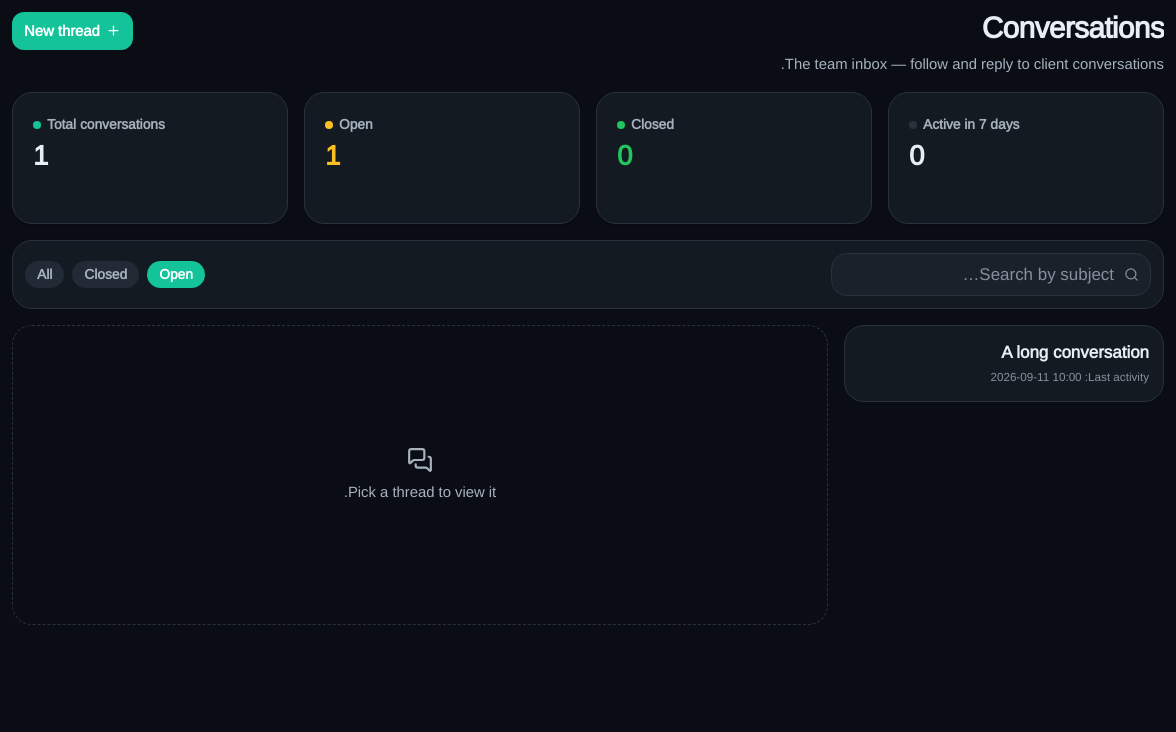
Test: a windowed conversation › opens the older window, and offers the way back
What coordinates should you click on to do the following:
click the text "A long conversation"
I would click on:
 (1075, 353)
Its box is x1=1001 y1=340 x2=1149 y2=366.
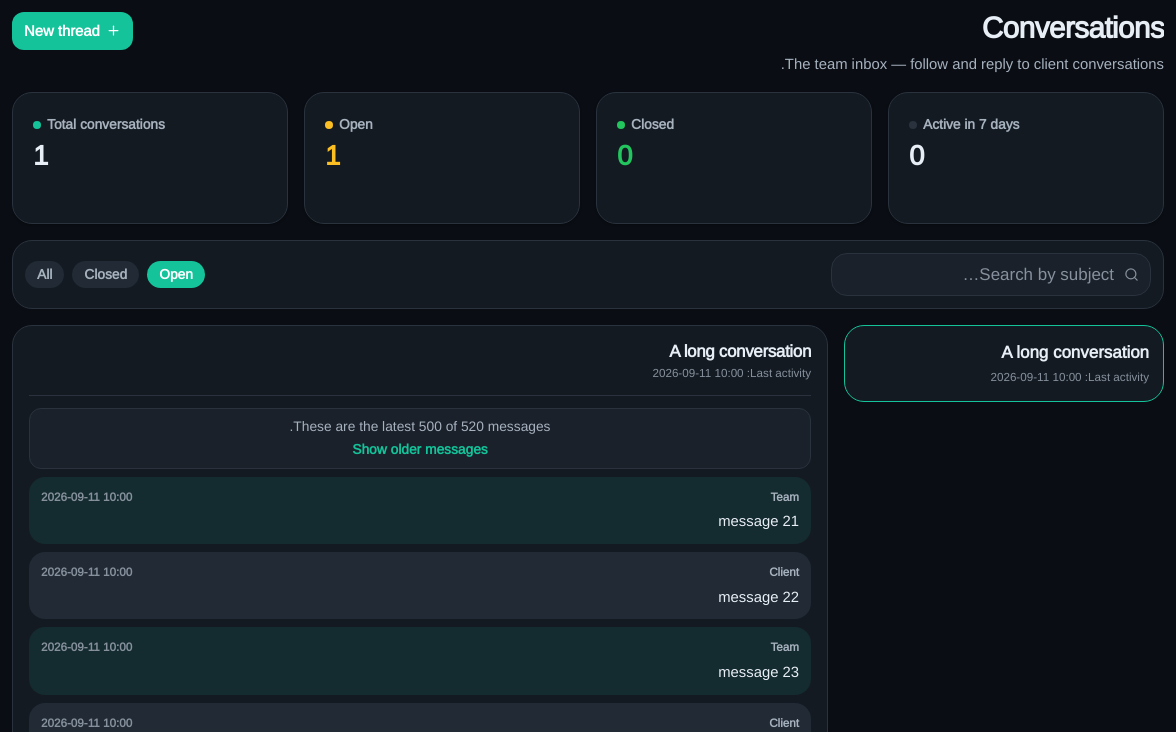
What coordinates should you click on to do the following:
click the button with test id "thread-older"
I would click on:
 (420, 450)
Its box is x1=352 y1=440 x2=488 y2=460.
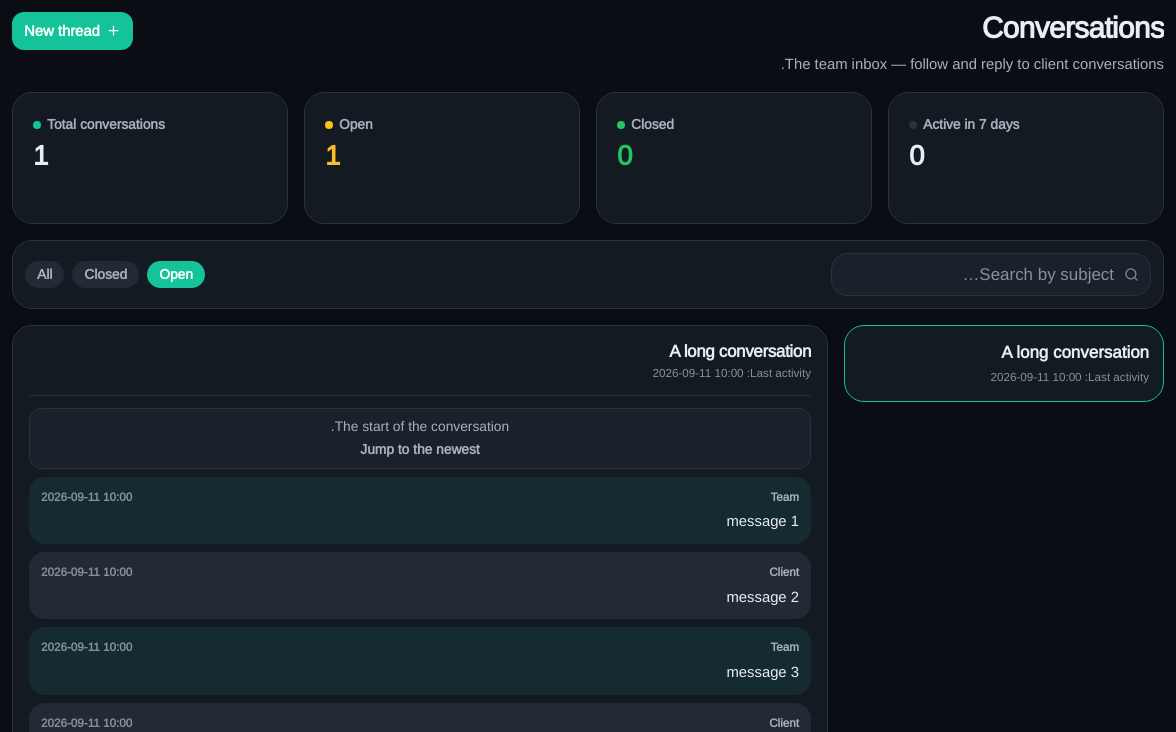
Check: the button with test id "thread-newest" is shown, box x1=360 y1=440 x2=480 y2=460
Check: the element with test id "thread-window-note" shows "start of the conversation", box x1=331 y1=418 x2=509 y2=434
Check: the button with test id "thread-older" is gone
